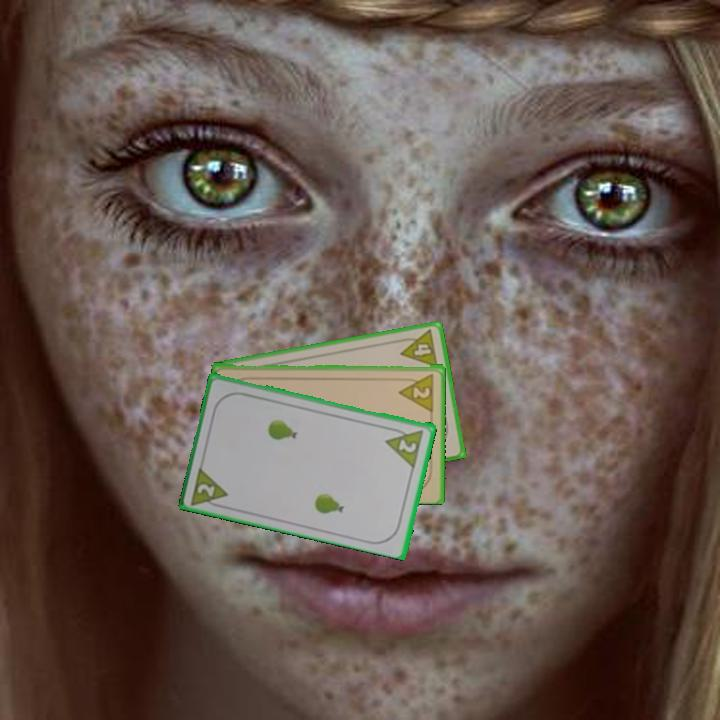2p: (187, 462, 231, 512), (382, 423, 427, 469), (396, 370, 437, 413)
4p: (395, 326, 441, 371)
